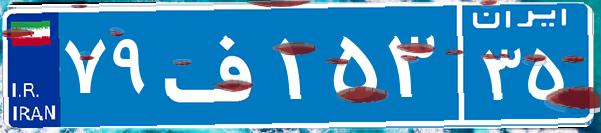1: (273, 28, 330, 110)
3: (385, 28, 445, 110), (475, 38, 525, 113)
5: (330, 28, 385, 110), (525, 38, 570, 115)
7: (57, 26, 110, 107)
9: (110, 28, 158, 105)
ف: (158, 15, 273, 115)
